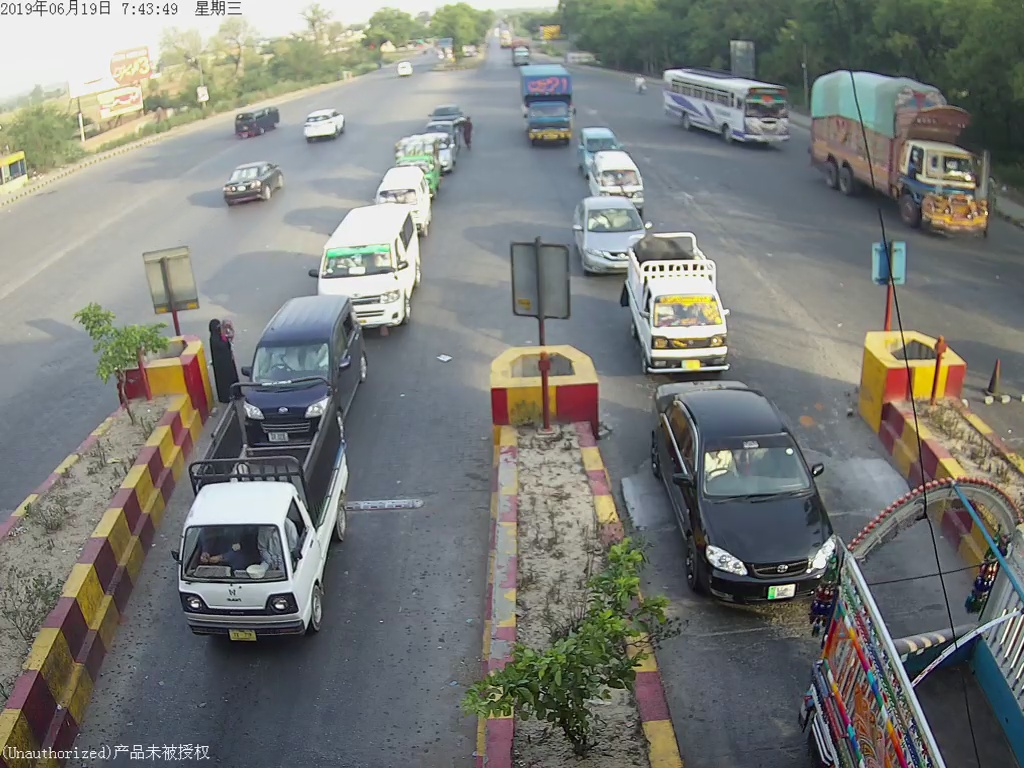Cat-1: (651, 386, 843, 602), (178, 422, 358, 637), (245, 297, 385, 405), (628, 236, 739, 366)
